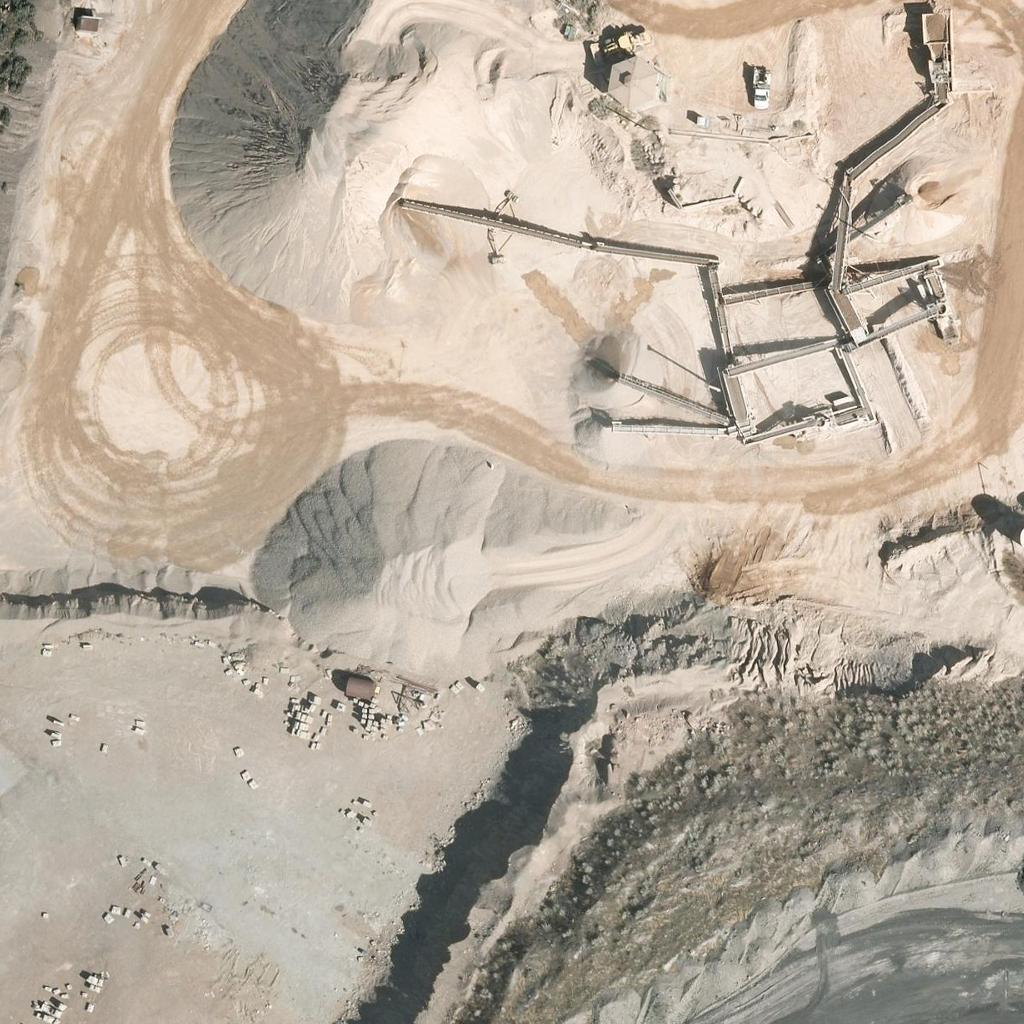car: (742, 74, 776, 108)
